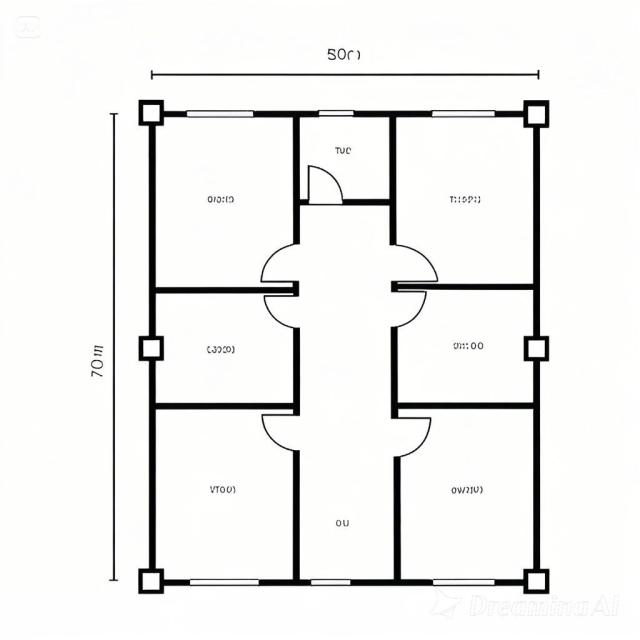Blueprint: (133, 95, 553, 598)
column: (518, 95, 556, 135), (133, 95, 171, 130), (133, 564, 171, 598), (134, 332, 168, 366), (518, 332, 553, 365), (518, 564, 553, 596)
wall: (142, 126, 162, 336), (531, 128, 542, 335), (147, 361, 157, 569), (532, 362, 541, 568), (386, 117, 399, 246), (156, 285, 293, 297), (291, 118, 302, 245), (156, 402, 294, 411), (398, 402, 533, 410), (292, 450, 300, 579), (353, 107, 432, 120), (394, 456, 401, 580), (254, 107, 318, 120), (350, 578, 433, 588), (398, 284, 534, 290), (292, 327, 301, 416), (391, 326, 398, 419), (342, 196, 389, 208), (258, 578, 312, 588), (495, 108, 523, 119), (494, 578, 524, 588), (164, 107, 186, 120), (164, 578, 190, 588), (290, 280, 300, 298), (300, 197, 309, 208), (390, 281, 398, 292)
